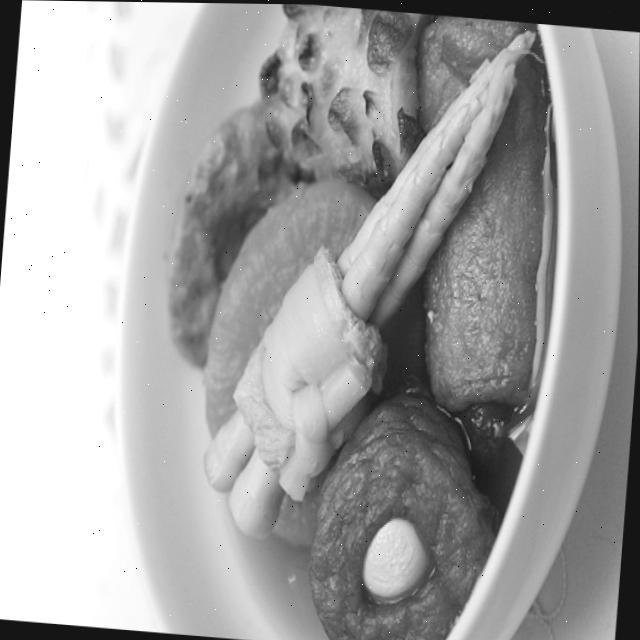汤锅炖物: (130, 2, 569, 640)
